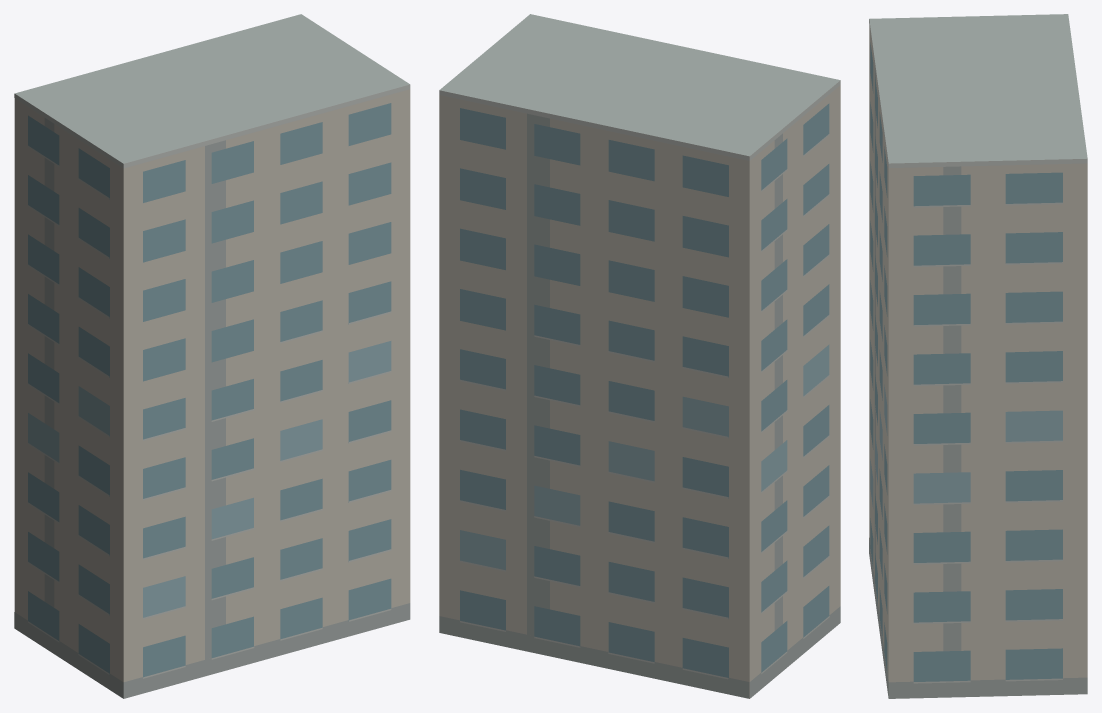
The model's file is survey-upis-33014143.glb.
3 views of the same model, side by side, from view 1: azimuth 30°, elevation 25°; view 2: azimuth 150°, elevation 25°; view 3: azimuth 270°, elevation 25° (orthographic).
Parts seen in each view (by area): view 1: survey-upis-33014143.tmp; view 2: survey-upis-33014143.tmp; view 3: survey-upis-33014143.tmp.
Boxes of the visible parts, x1=… form: survey-upis-33014143.tmp: x1=14, y1=14, x2=410, y2=698; survey-upis-33014143.tmp: x1=439, y1=14, x2=840, y2=698; survey-upis-33014143.tmp: x1=869, y1=14, x2=1087, y2=698.
Size of the model in its own units: 16.78 by 28 by 10.37.
